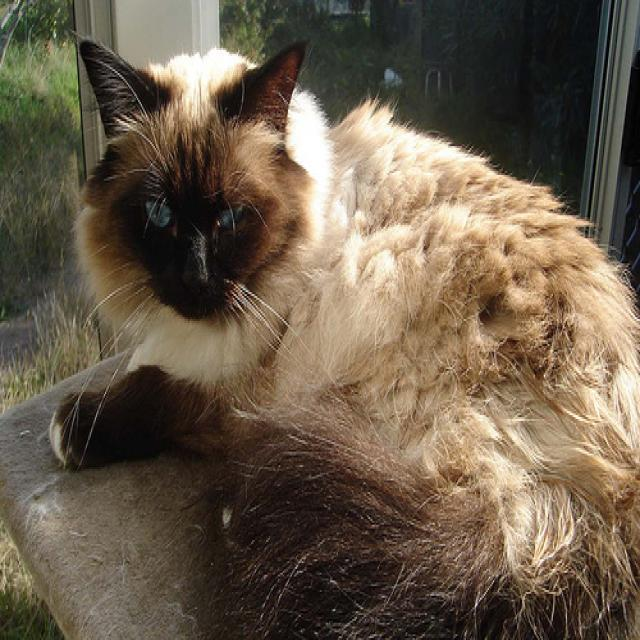Birman: (75, 31, 332, 333)
